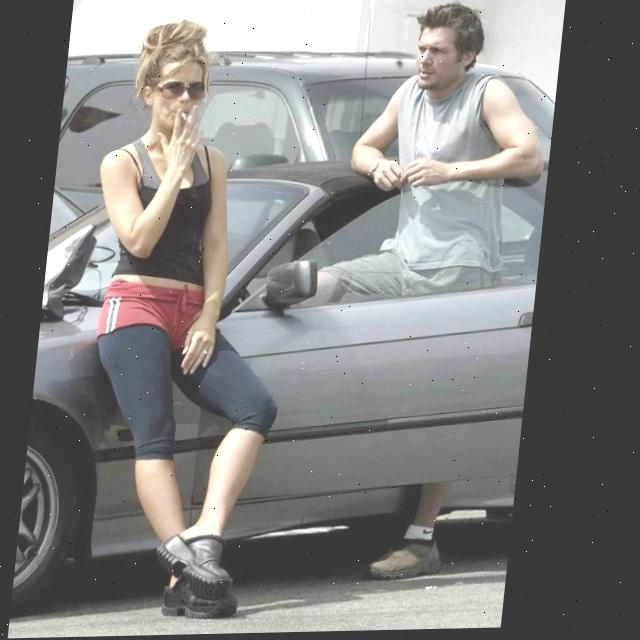cigarette: (183, 114, 189, 121)
